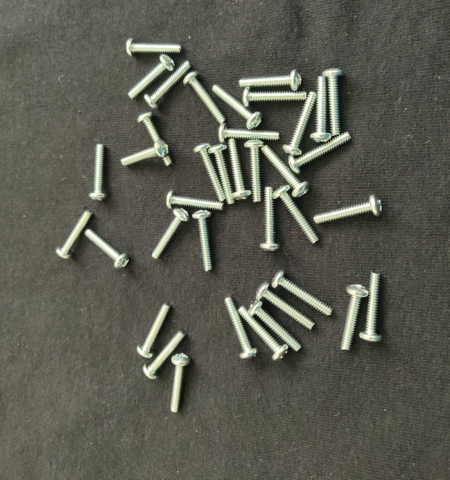longscrew: (269, 268, 335, 318), (253, 281, 318, 330), (247, 298, 304, 352), (237, 305, 290, 362), (272, 185, 323, 244), (287, 130, 355, 173), (260, 143, 309, 200), (282, 89, 319, 158), (142, 329, 189, 382), (184, 70, 227, 127), (143, 60, 193, 109), (222, 294, 258, 362), (126, 54, 178, 100), (314, 195, 386, 227), (82, 226, 132, 272), (212, 84, 264, 128), (135, 300, 173, 360), (339, 282, 370, 354), (152, 207, 193, 261), (137, 112, 174, 169), (56, 208, 94, 261), (194, 142, 227, 202), (206, 142, 236, 207), (359, 271, 385, 344), (226, 135, 252, 203), (322, 66, 346, 139), (309, 75, 333, 145), (168, 354, 193, 416), (165, 188, 226, 213), (259, 184, 281, 253), (242, 87, 310, 109), (243, 139, 267, 201), (238, 69, 304, 91), (193, 208, 214, 276), (119, 141, 169, 168), (216, 123, 280, 144), (89, 141, 110, 204), (125, 39, 184, 59)
